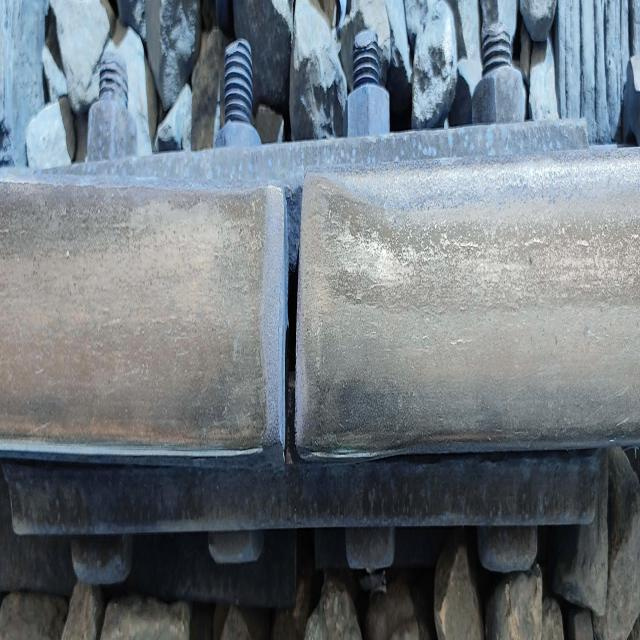Good Joint: (49, 88, 612, 582)
